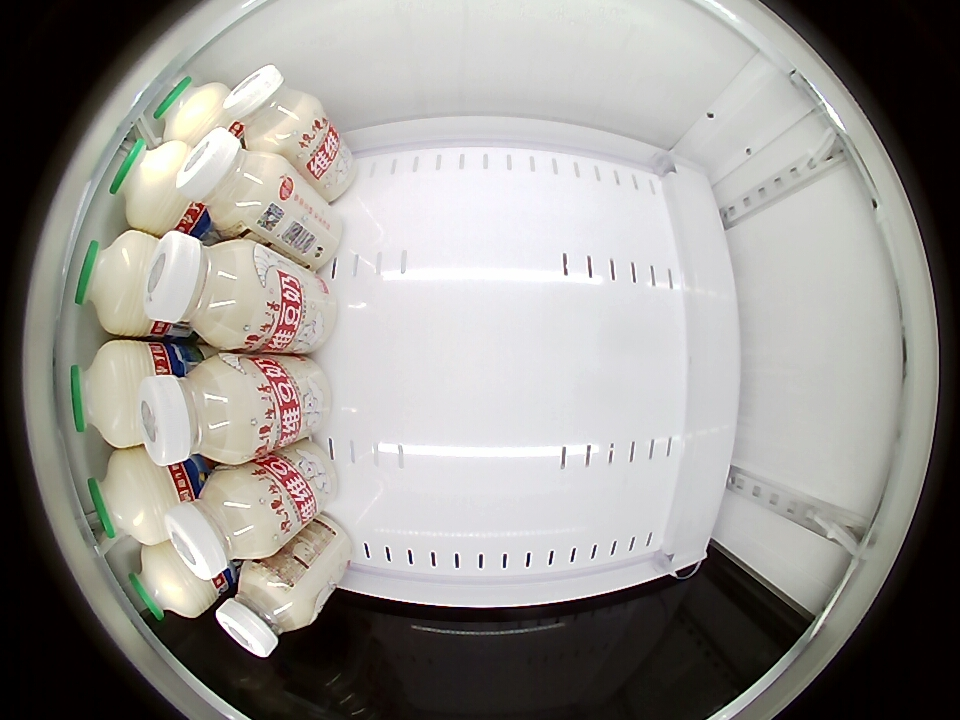liziyuan: (72, 230, 165, 338), (87, 449, 191, 545), (71, 339, 158, 448), (108, 137, 202, 235), (130, 542, 219, 621), (153, 75, 233, 145)
weiweidounai: (143, 232, 267, 349), (137, 353, 262, 467), (165, 469, 279, 581), (177, 127, 285, 236), (216, 561, 317, 659), (224, 65, 320, 153)
